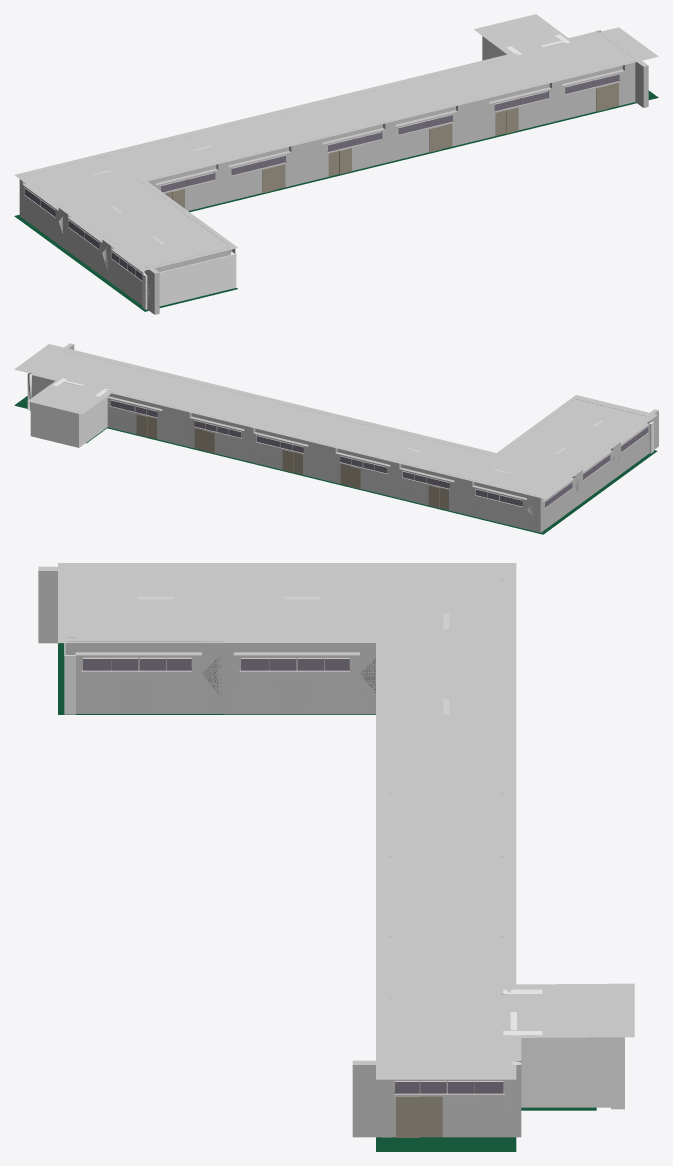
Rendered from rouka.fbx.
The picture shows the model from 3 angles, top to bottom: view 1: azimuth 30°, elevation 25°; view 2: azimuth 150°, elevation 25°; view 3: azimuth 270°, elevation 25°; orthographic projection. The views are drawn at different scales.
Visible parts, largest first — view 1: 平面.002, Mado_R.010, Mado_R.019, Mado_R.001, 立方体.009, L_3.001, L_3, 平面.001, L_2, Mado_R.002, DoaUsiro_R.004, DoaUsiro_R.010 (+6 smaller); view 2: 平面.002, Mado_R.037, Mado_R.028, L_1, 立方体.012, Mado_R.046, L_3, L_2, 平面.001, L_3.001, DoaUsiro_R.008, DoaUsiro_R.006 (+9 smaller); view 3: 平面.002, L_4, L_4.001, Mado_R.002, 立方体.012, 平面.001, L_3.001, Mado_R.019, DoaUsiro_R.023, 立方体.009, Mado_R.010, Mado_R.001 (+2 smaller).
Part boxes in pixels (x1,y1,x2,y2): 平面.002: (14,14,658,270); Mado_R.010: (304,98,473,181); Mado_R.019: (471,58,640,141); Mado_R.001: (138,139,306,210); 立方体.009: (142,245,236,309); L_3.001: (107,237,159,314); L_3: (63,205,115,281); 平面.001: (14,90,658,311); L_2: (19,173,72,247); Mado_R.002: (596,30,648,107); DoaUsiro_R.004: (262,164,285,192); DoaUsiro_R.010: (328,148,351,176); 平面.002: (14,344,657,498); Mado_R.037: (176,406,323,479); Mado_R.028: (322,441,469,514); L_1: (468,477,540,532); 立方体.012: (30,378,108,447); Mado_R.046: (104,388,177,443); L_3: (575,437,620,504); L_2: (537,465,582,532); 平面.001: (14,396,657,534); L_3.001: (613,409,658,475); DoaUsiro_R.008: (340,464,360,488); DoaUsiro_R.006: (428,485,448,510); 平面.002: (58,563,634,1079); L_4: (223,637,391,714); L_4.001: (65,637,233,713); Mado_R.002: (352,1060,521,1137); 立方体.012: (503,989,624,1109); 平面.001: (58,643,596,1151); L_3.001: (38,566,206,643); Mado_R.019: (381,922,391,1137); DoaUsiro_R.023: (396,1096,442,1137); 立方体.009: (64,567,75,714); Mado_R.010: (381,780,391,922); Mado_R.001: (381,638,391,780).
Bounding box in the file's own units: 174 × 11.6 × 84.72.
